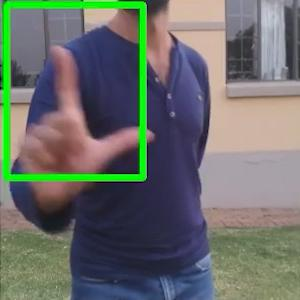land_hand: (13, 41, 155, 199)
